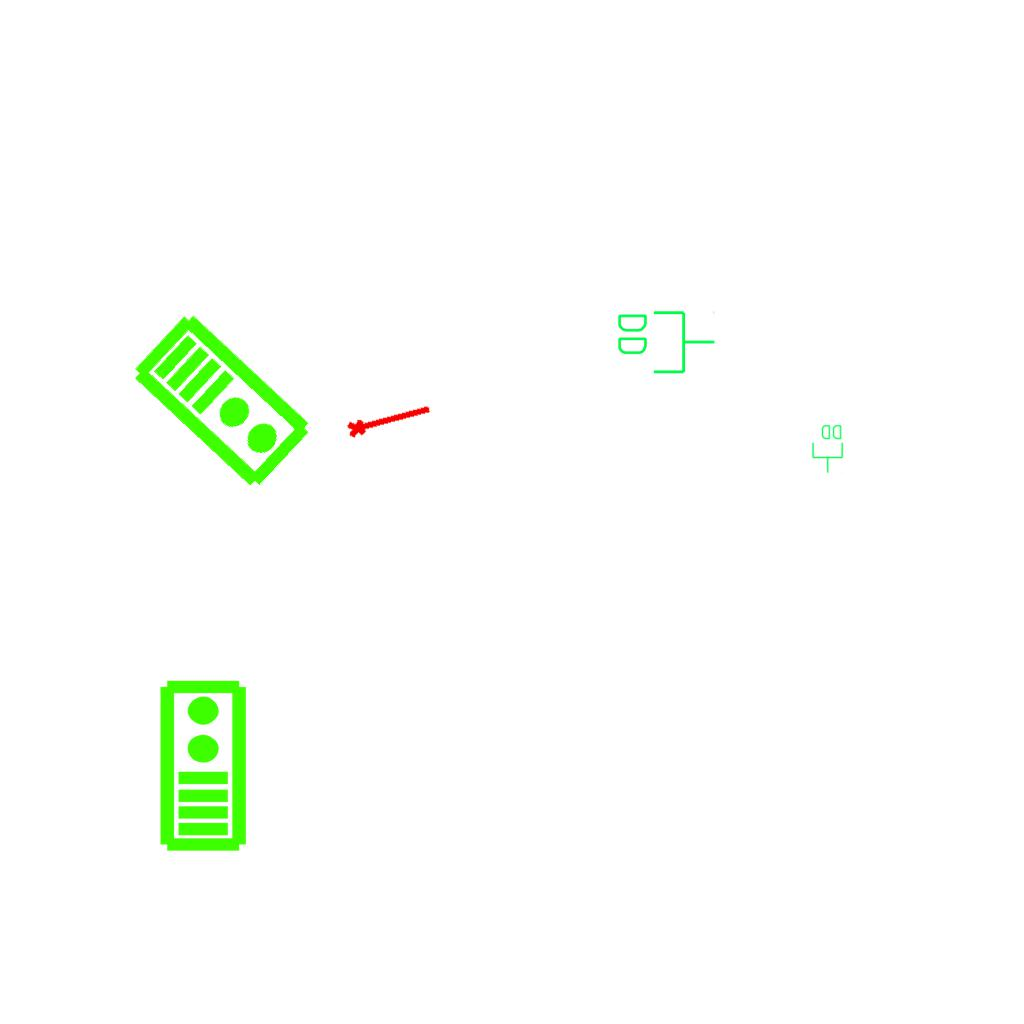ASR_Ansaugoeffnung: (343, 396, 435, 441)
Datenanschluss_zweifach: (614, 307, 717, 376), (811, 423, 845, 474)
Gegensprechanlage_mit_Video: (126, 305, 321, 495), (154, 677, 249, 853)
